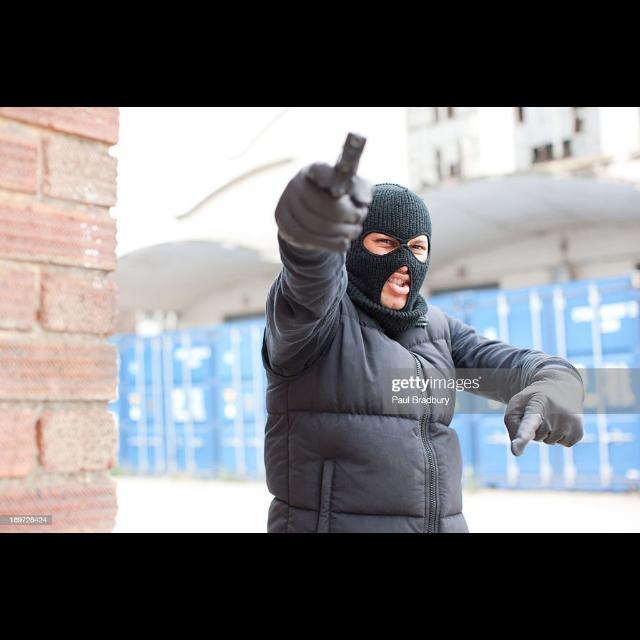criminal: (261, 130, 586, 533)
weapon: (324, 132, 367, 201)
